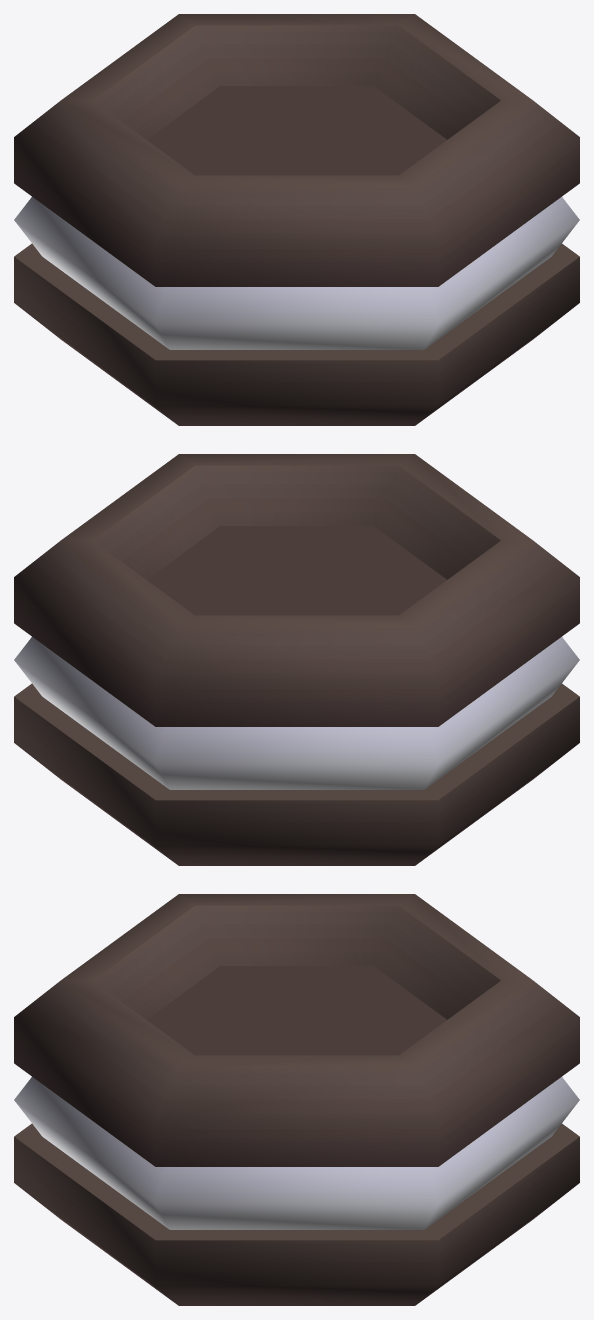
Rendered from cookie-chocolate.glb.
3 views of the same model, one above another, from view 1: azimuth 30°, elevation 25°; view 2: azimuth 150°, elevation 25°; view 3: azimuth 270°, elevation 25° (orthographic).
Parts seen in each view (by area): view 1: cookie-chocolate; view 2: cookie-chocolate; view 3: cookie-chocolate.
Boxes of the visible parts, x1,y1,x2,y2 form: cookie-chocolate: (14,14,579,425); cookie-chocolate: (14,454,579,865); cookie-chocolate: (14,894,579,1305).
Bounding box in the file's own units: 0.1213 × 0.0652 × 0.14.
Materials: 1 (1 with a texture image).
